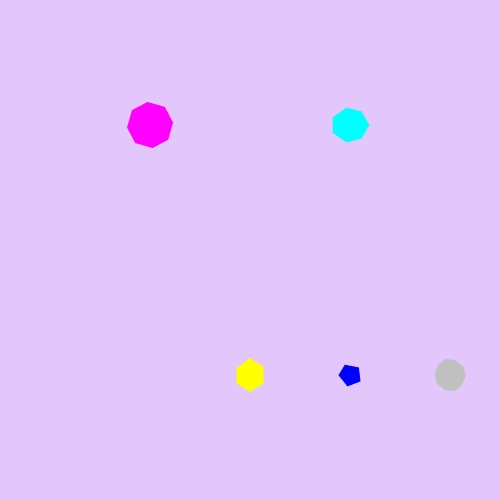decagon: (430, 356, 471, 394)
heptagon: (328, 104, 372, 146)
hexagon: (230, 358, 271, 393)
octagon: (123, 98, 177, 152)
pentagon: (335, 360, 365, 390)
